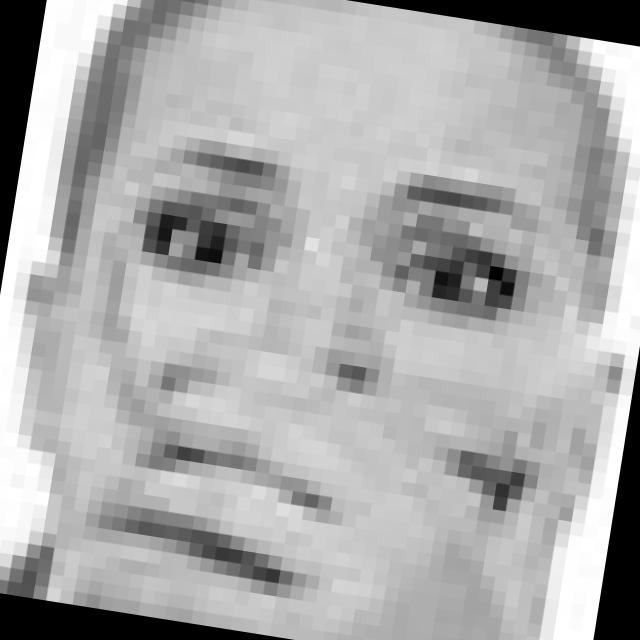fear: (71, 120, 566, 625)
